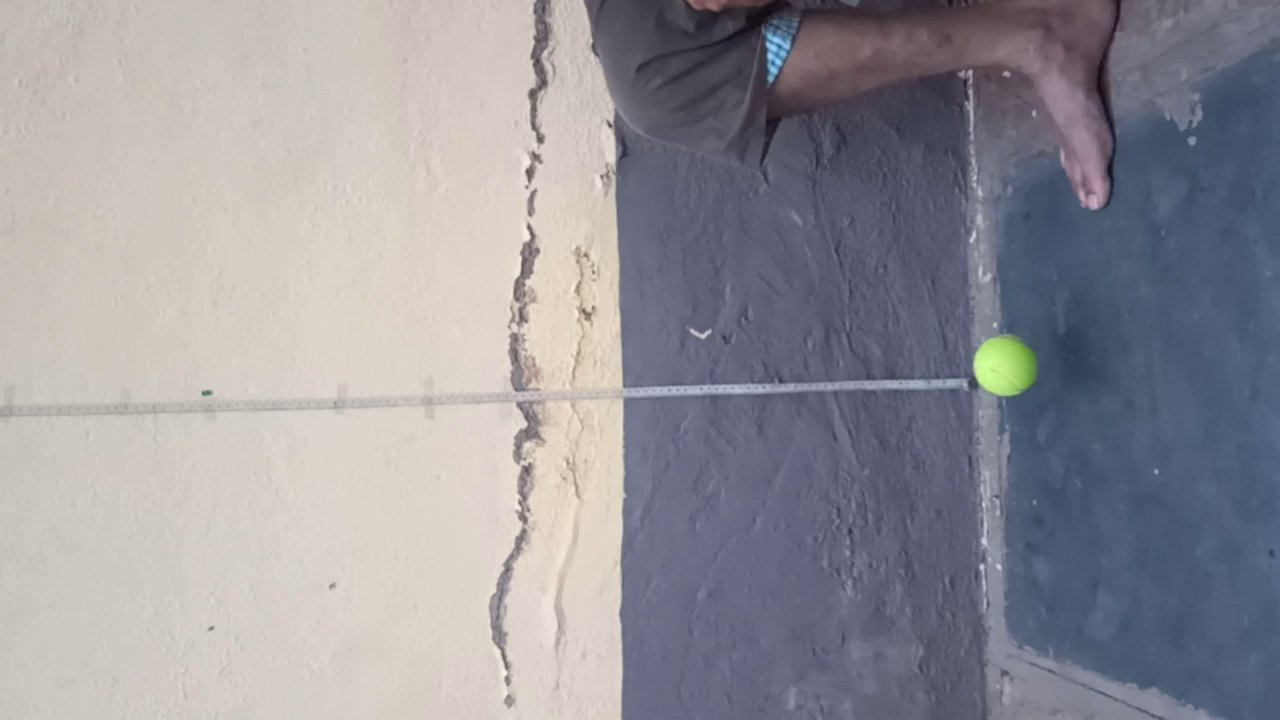Tennis-Ball: (973, 334, 1037, 396)
